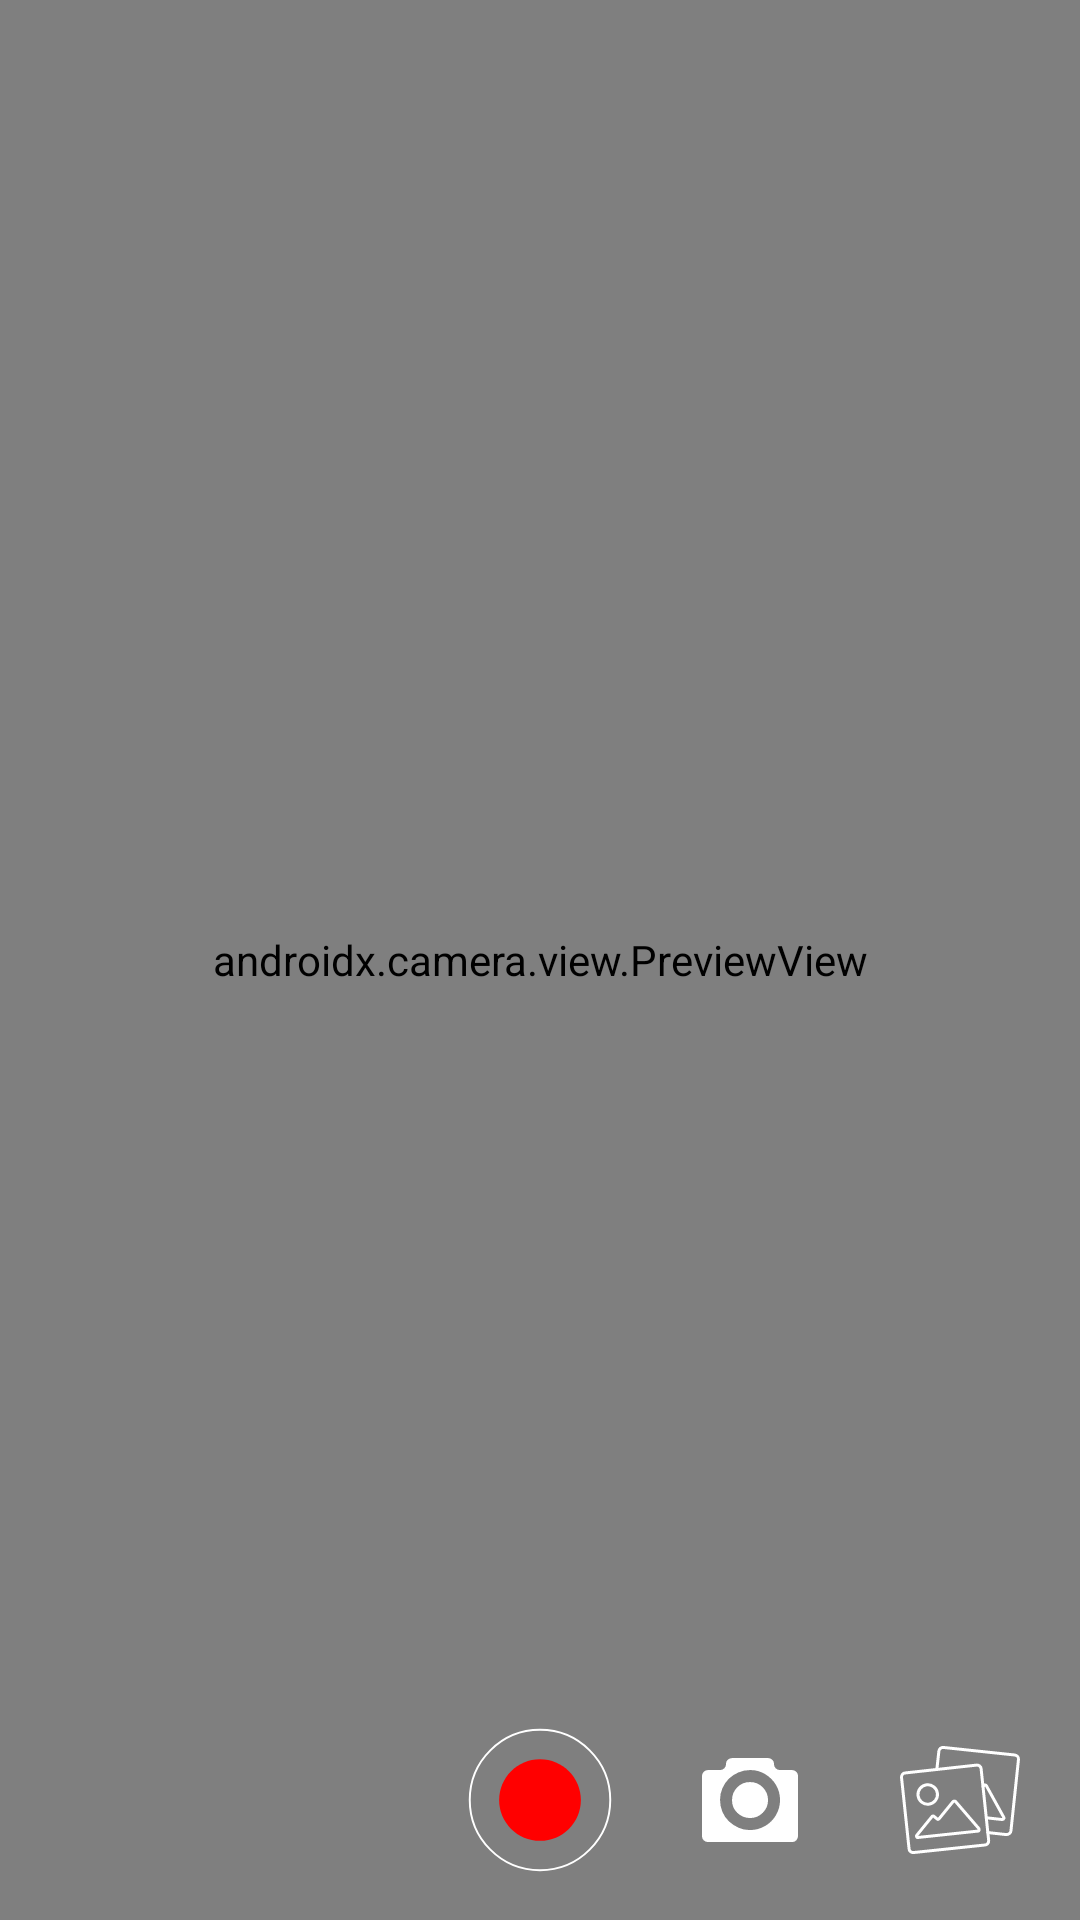

Where to tap for icons on this 1080px×1920px app screen, as [x,y]:
2Photo: [750,1800]
Capture: [540,1800]
Gallery: [960,1800]
